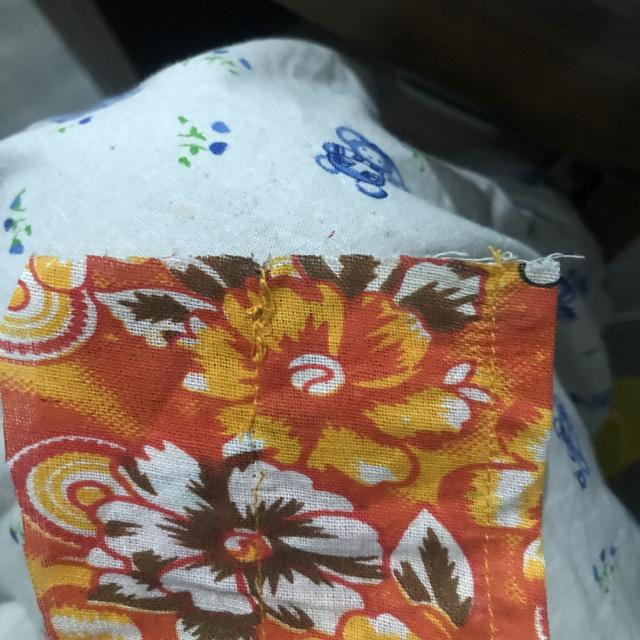broken: (230, 400, 280, 500)
good: (476, 543, 504, 616)
